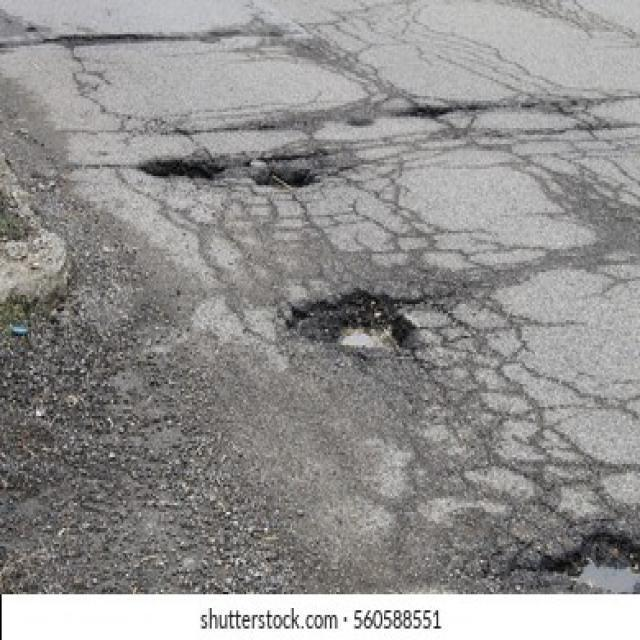Pothole: (288, 290, 422, 351), (137, 155, 317, 190), (554, 530, 640, 593)
